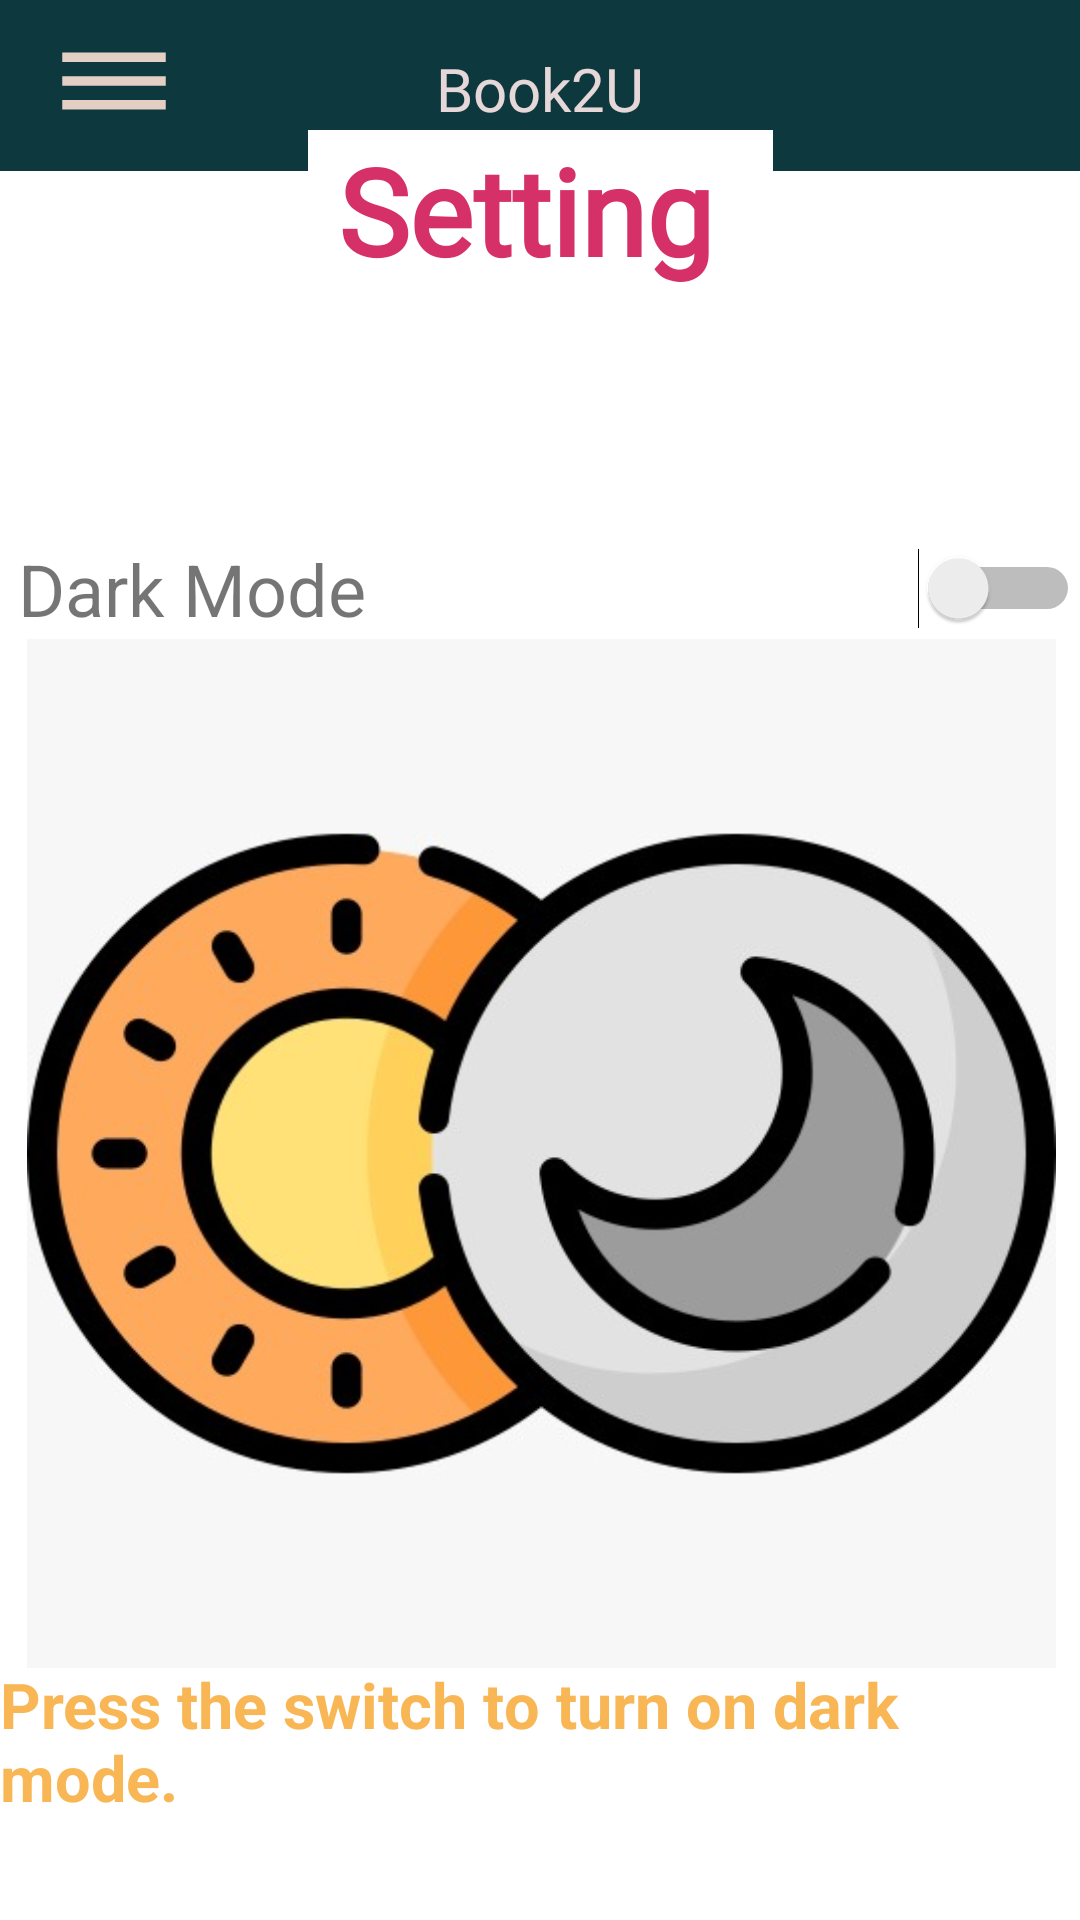

Named icons in this screenshot (1080px x 1920px) and their centers, [x,y]:
menu: [114,81]
